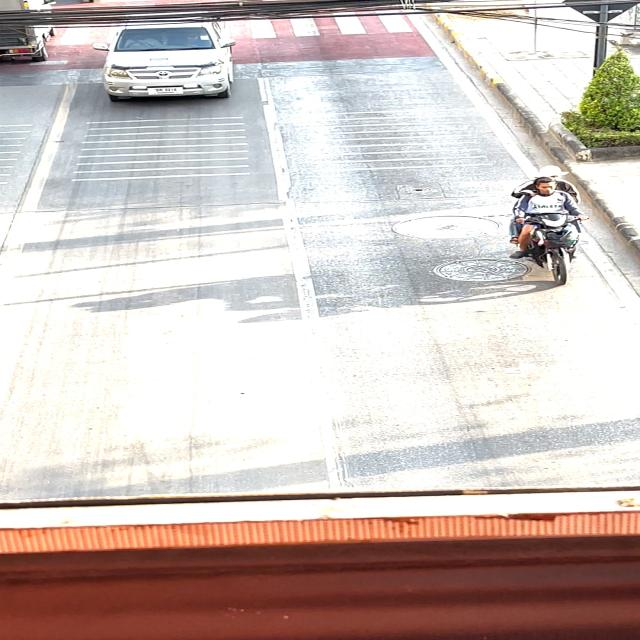car: (69, 17, 252, 109)
